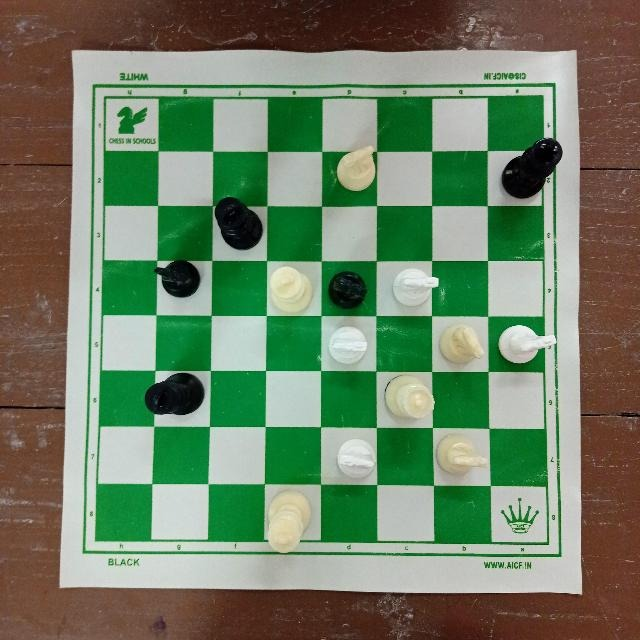black-king: (498, 135, 566, 201), (139, 370, 209, 421), (211, 191, 265, 255)
black-knight: (152, 255, 207, 303), (327, 267, 371, 311)
white-king: (263, 485, 315, 556), (265, 262, 316, 317)
white-knight: (493, 319, 558, 370), (434, 429, 493, 485), (325, 432, 383, 486), (319, 320, 375, 368), (331, 141, 379, 195), (433, 322, 487, 370), (388, 263, 440, 310)
white-queen: (380, 372, 436, 420)
